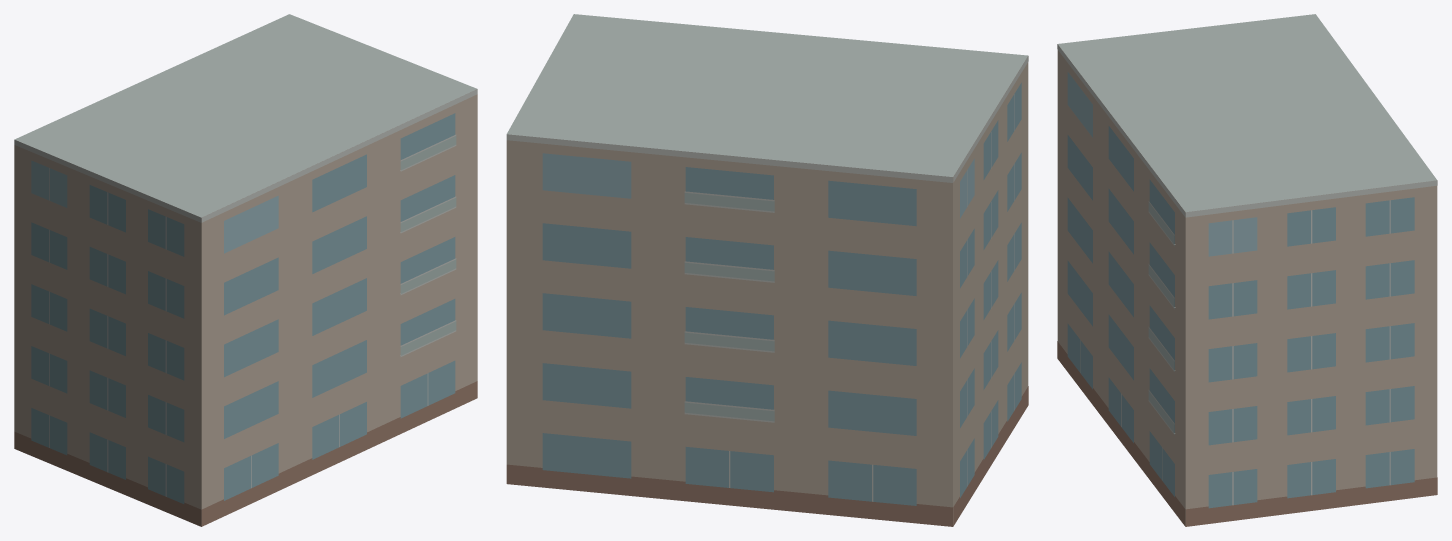
File: survey-upis-32794401.glb
The picture shows the model from 3 angles, left to right: view 1: azimuth 30°, elevation 25°; view 2: azimuth 150°, elevation 25°; view 3: azimuth 270°, elevation 25°; orthographic projection. The views are drawn at different scales.
Visible parts, largest first — view 1: survey-upis-32794401.tmp; view 2: survey-upis-32794401.tmp; view 3: survey-upis-32794401.tmp.
Part boxes in pixels (bbox=[...]): survey-upis-32794401.tmp: bbox=[14, 14, 477, 526]; survey-upis-32794401.tmp: bbox=[506, 14, 1028, 526]; survey-upis-32794401.tmp: bbox=[1057, 14, 1437, 526].
Size of the model in its own units: 19.47 by 14.4 by 15.77.
